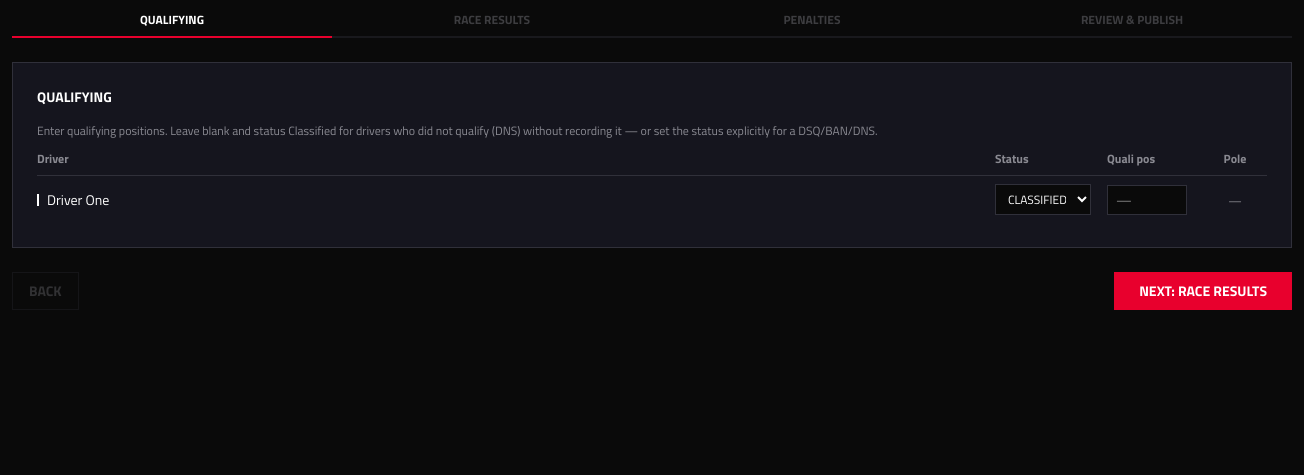
it: ResultStepper points adjustment (F3) › does not reset the adjustment to 0 while a lone '-' is mid-type
The width and height of the screenshot is (1304, 475).
Click the button "Next: Race Results" at coordinates (1203, 291), box [1114, 272, 1292, 310]
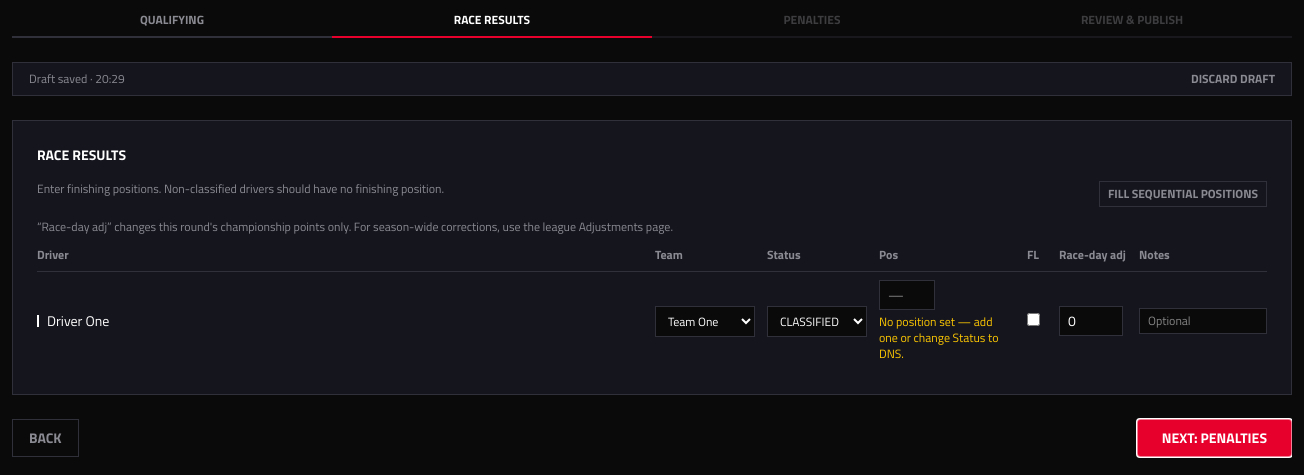
Type "-" into the field named "Points adjustment for Driver One" at coordinates (1091, 321), box [1059, 306, 1123, 336]
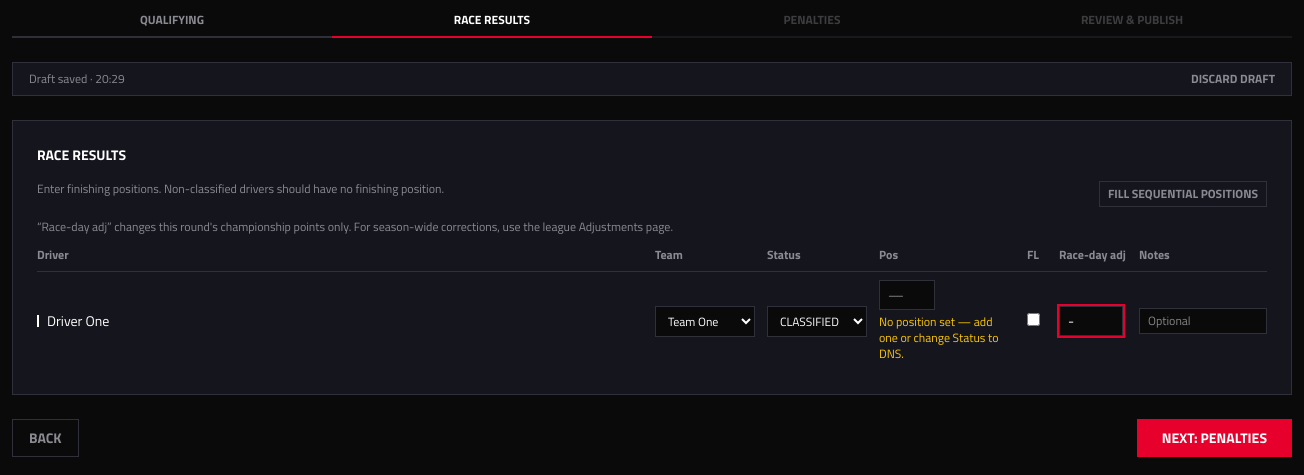
Type "5" into the field named "Points adjustment for Driver One" at coordinates (1091, 321), box [1059, 306, 1123, 336]
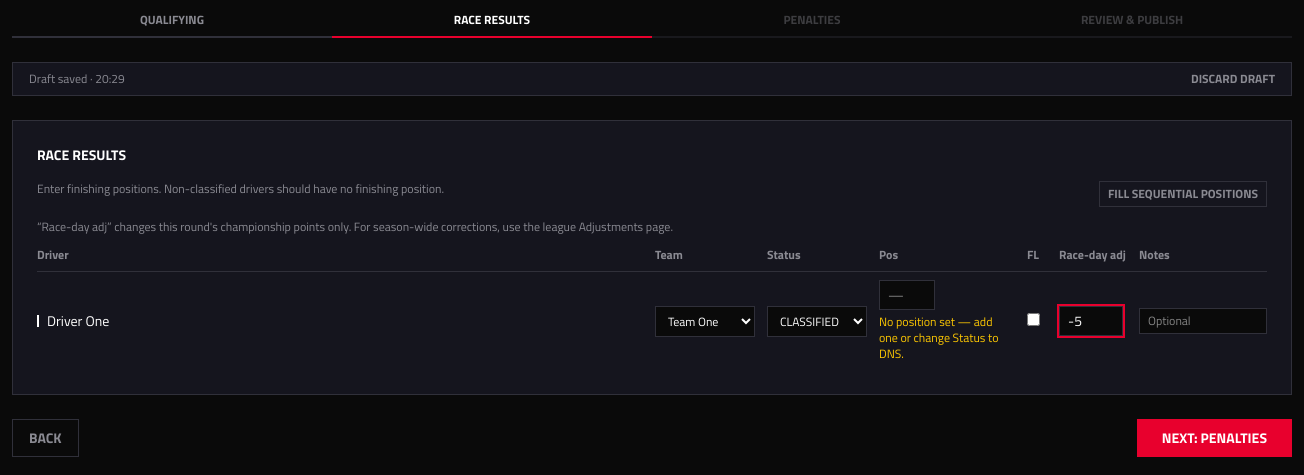
Result: the field named "Points adjustment for Driver One" holds "-5" at [1059, 306, 1123, 336]
